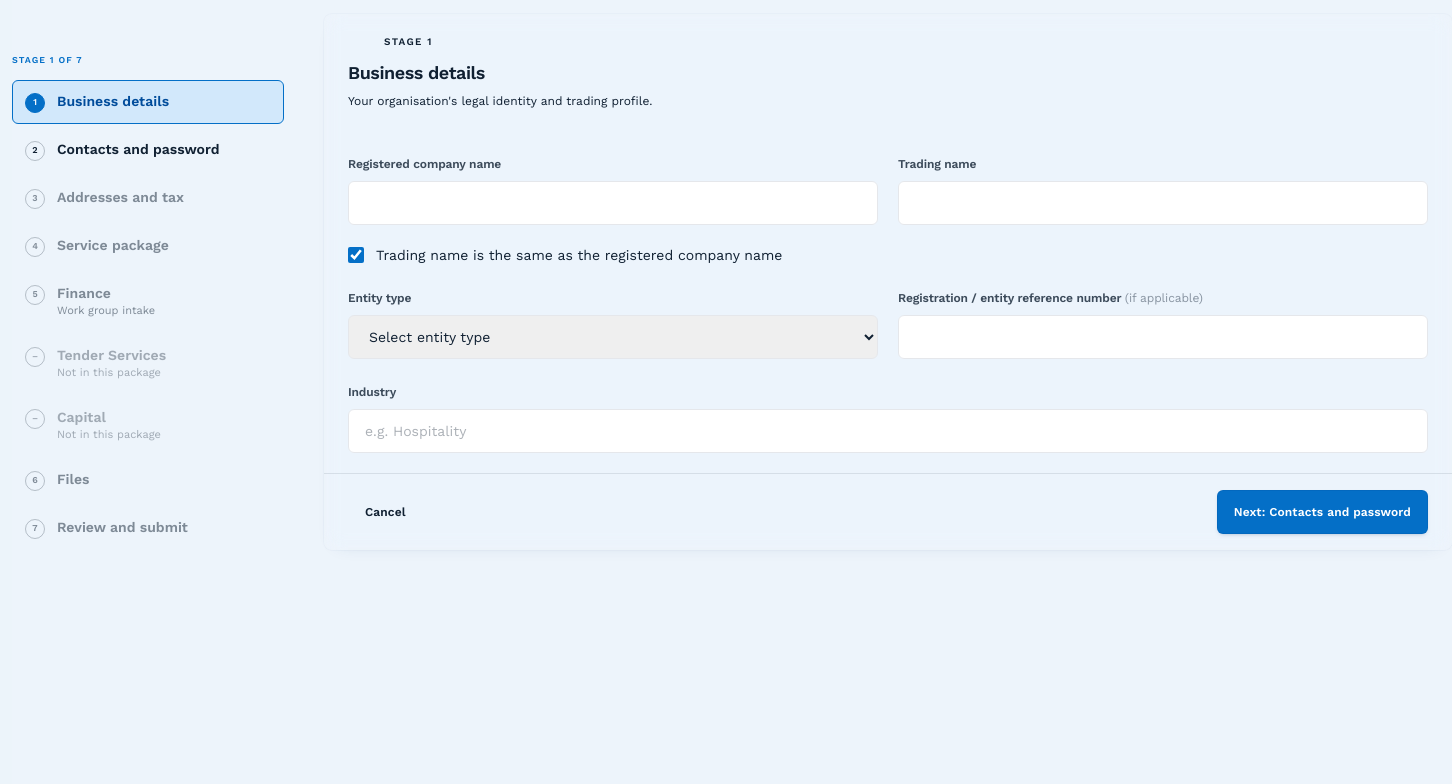
it: OnboardClientWizard › will not leave a stage with a required field empty, and moves on once it is filled
This screenshot has width=1452, height=784.
Click the button "Next: Contacts and password": (1322, 512) x1=1217 y1=490 x2=1428 y2=534
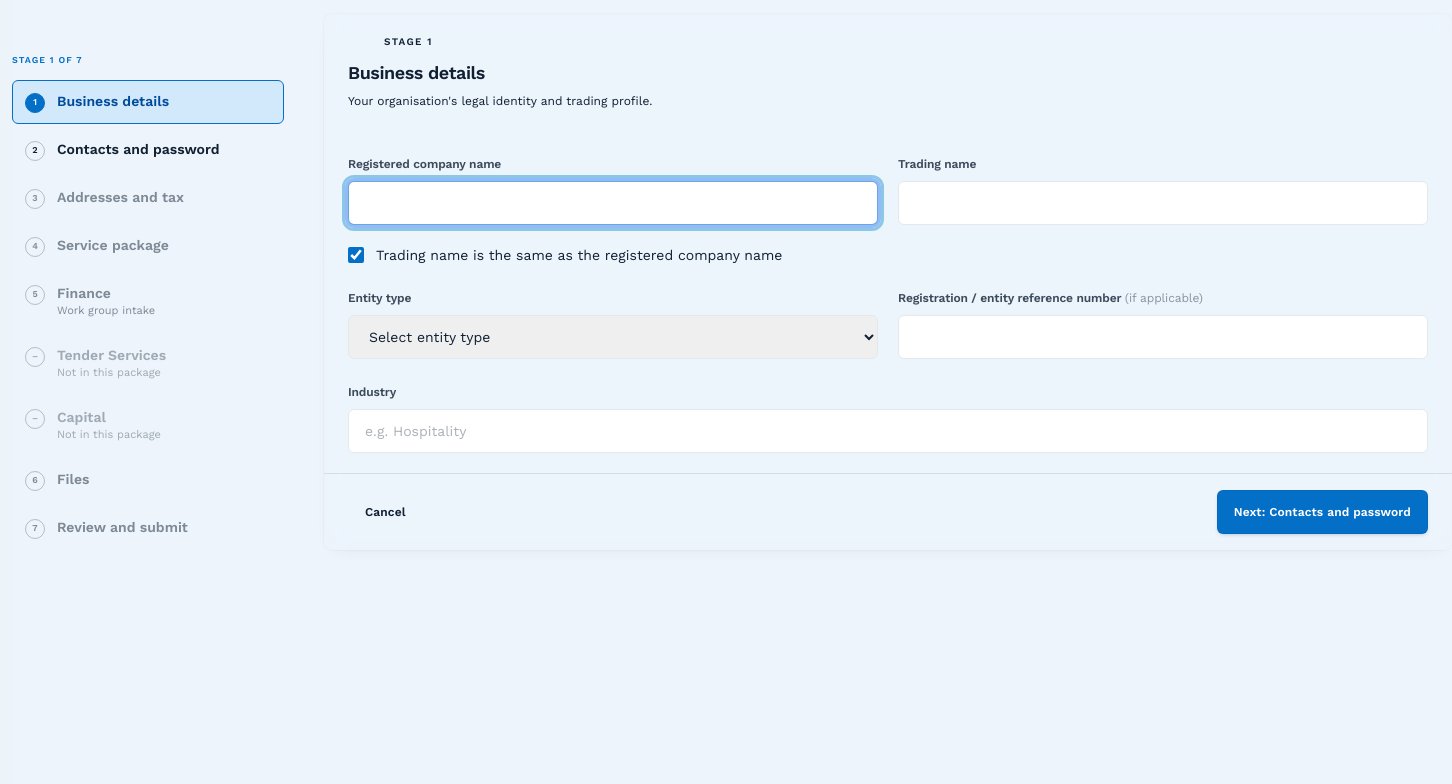
Expected: the heading reads "Business details", x1=348 y1=62 x2=485 y2=83
In the field labelled "Registered company name": (613, 202) x1=348 y1=180 x2=878 y2=224, type "Ridge Foods"
Select "Sole proprietor" in the dropdown labelled "Entity type": (613, 336) x1=348 y1=314 x2=878 y2=358
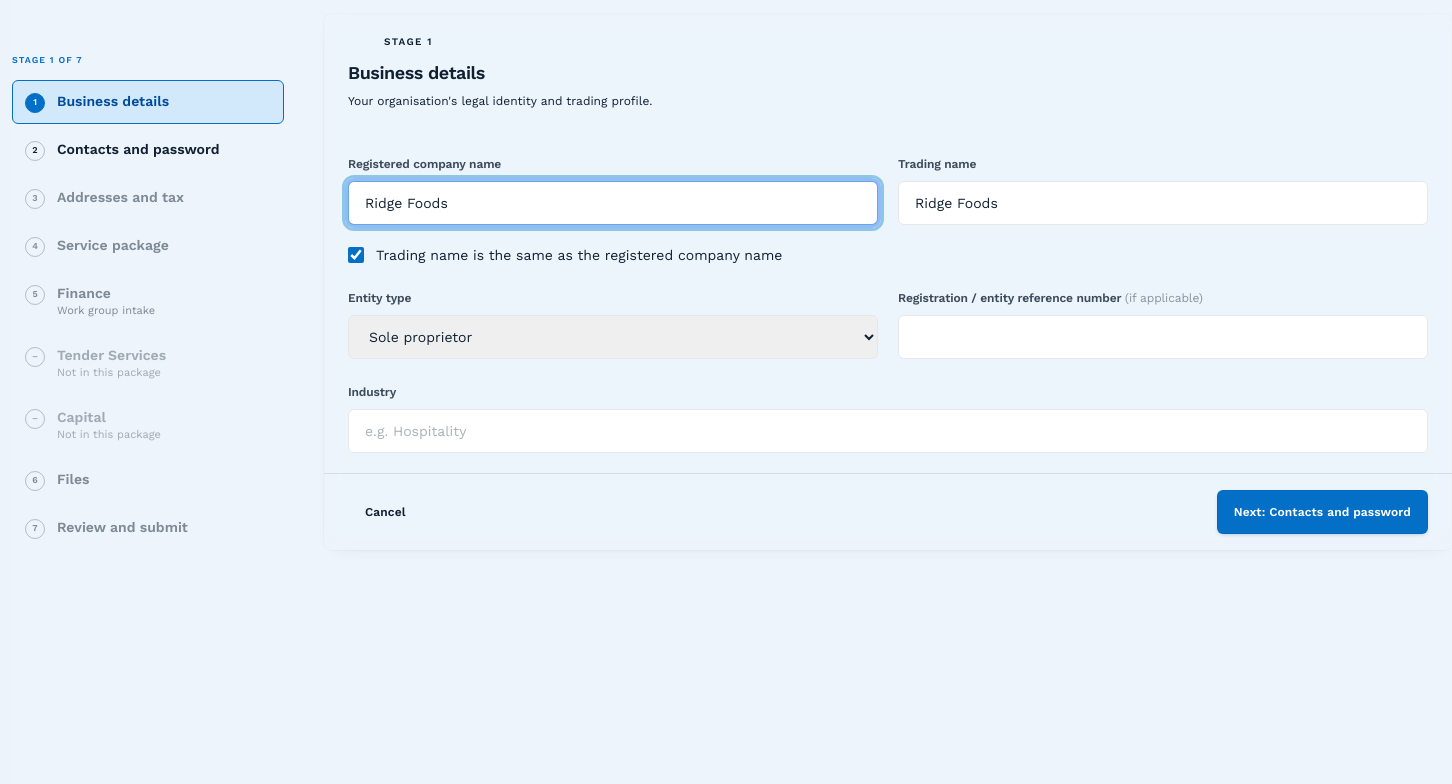
In the field labelled "Industry": (888, 430) x1=348 y1=408 x2=1428 y2=452, type "Hospitality"
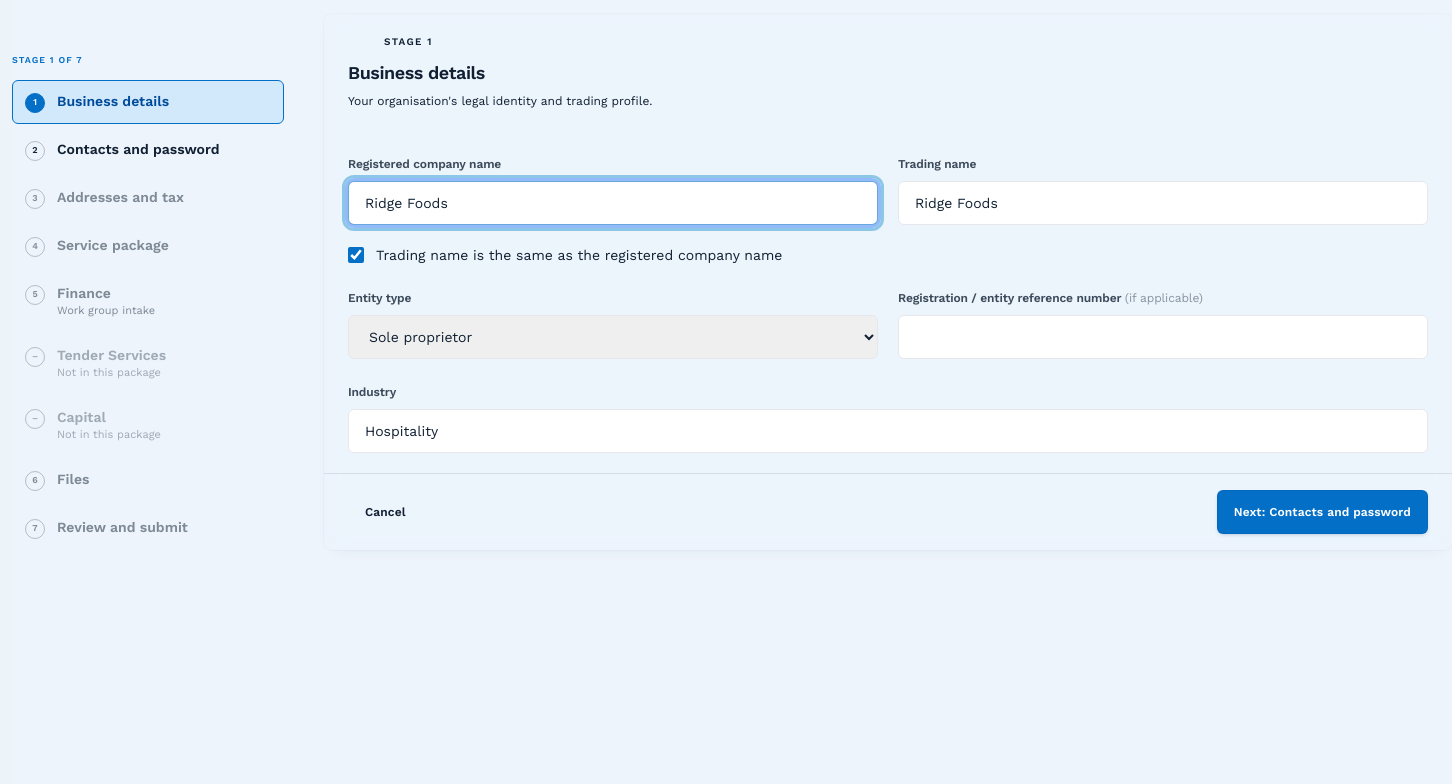
Click the button "Next: Contacts and password": (1322, 512) x1=1217 y1=490 x2=1428 y2=534
(page scrolled)
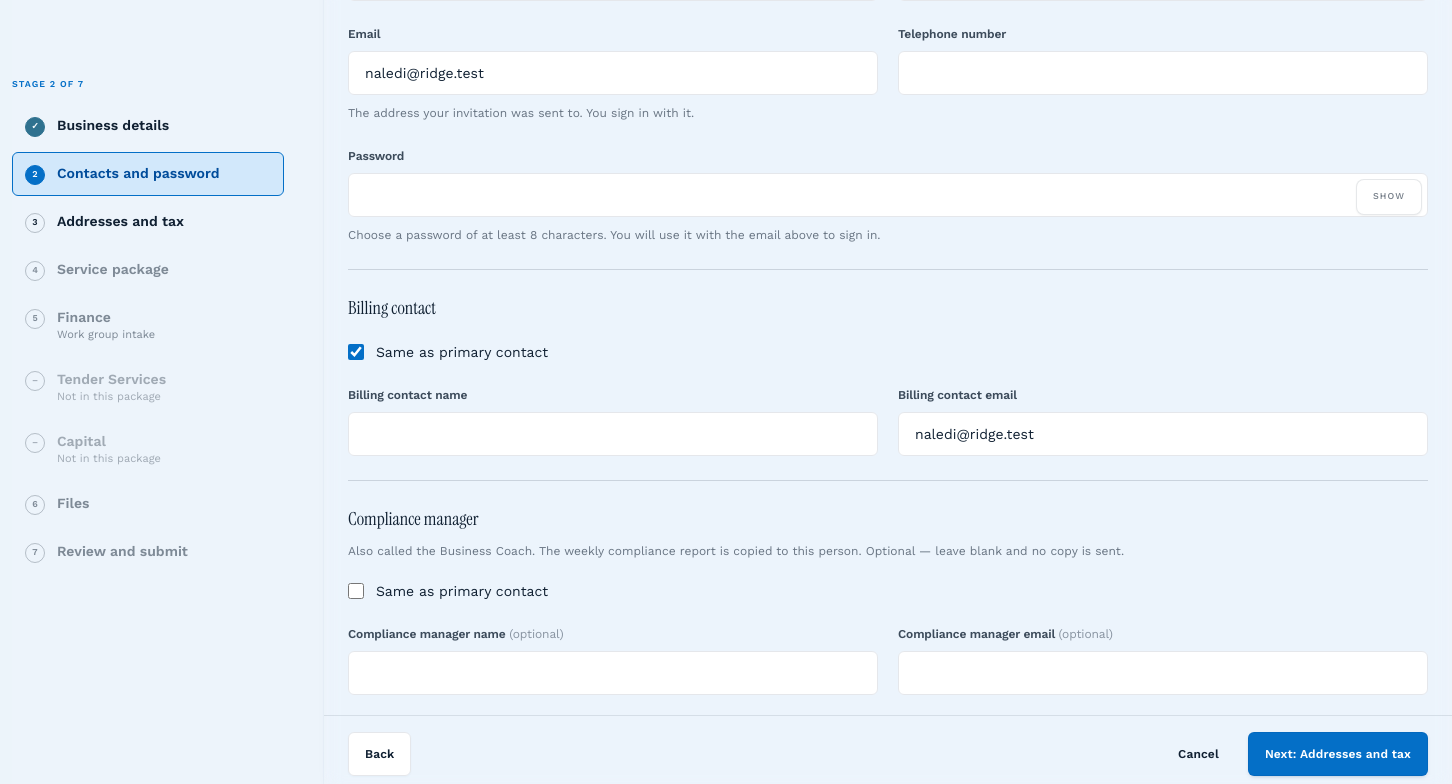
Expected: the text "Stage 2 of 7" is shown, x1=12 y1=79 x2=84 y2=89
Click the button "Back": (380, 754) x1=348 y1=732 x2=411 y2=776
(page scrolled)
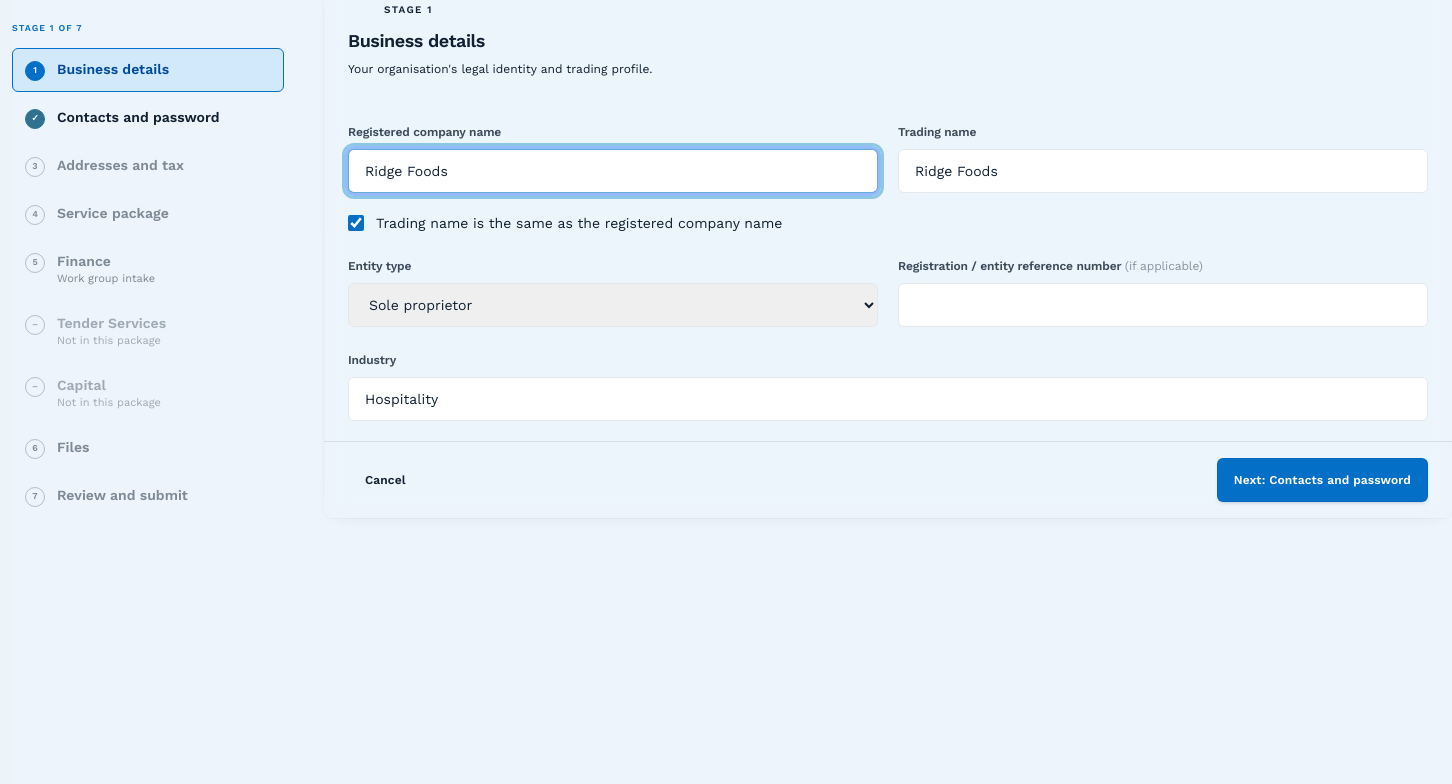
Expected: the heading reads "Business details", x1=348 y1=30 x2=485 y2=51
Click the button "✓ Contacts and password": (148, 118) x1=12 y1=96 x2=284 y2=140
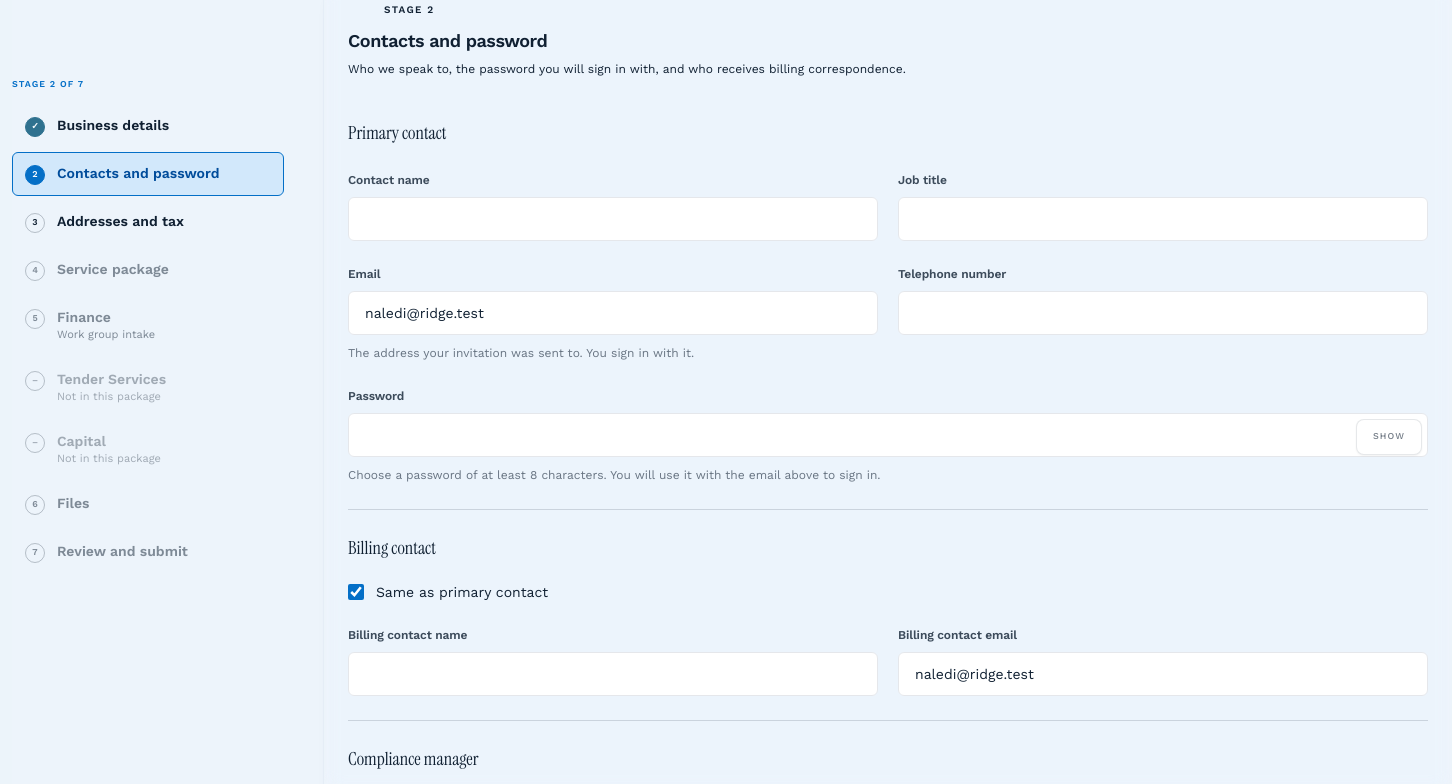
Expected: the heading "Contacts and password" is shown, x1=348 y1=30 x2=547 y2=51
